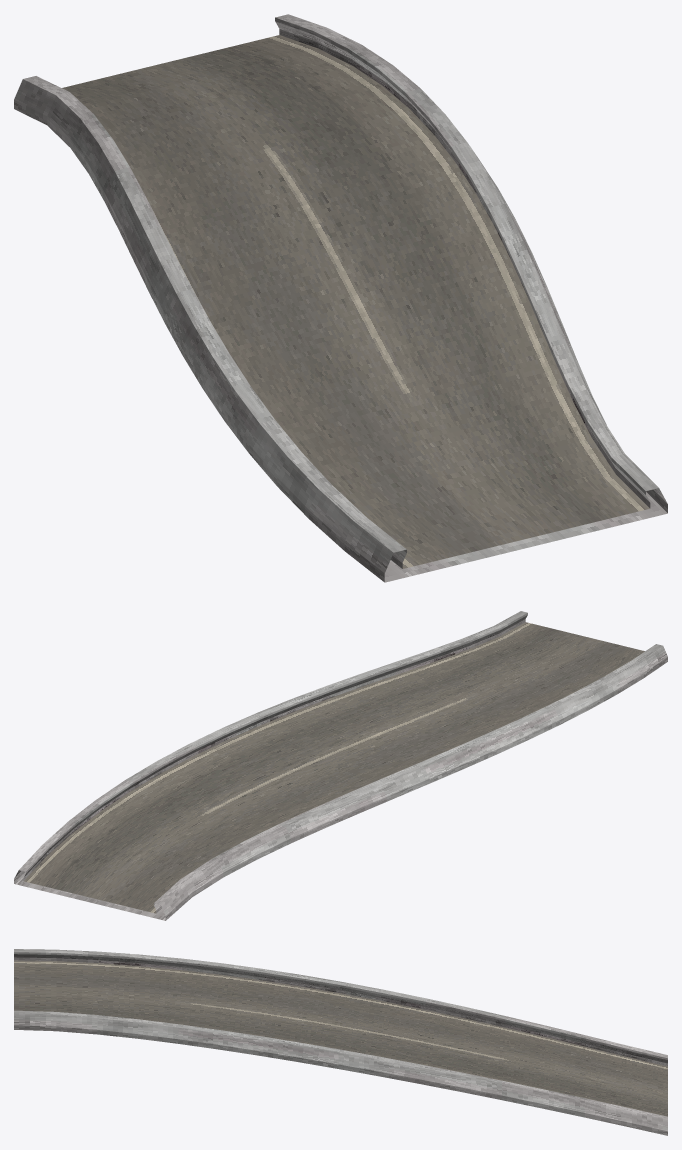
The model's file is road-Chicane-Flat-BiSlopeDown-Down1-Right1-Size4.glb.
The picture shows the model from 3 angles, top to bottom: view 1: azimuth 30°, elevation 25°; view 2: azimuth 150°, elevation 25°; view 3: azimuth 270°, elevation 25°; orthographic projection. The views are drawn at different scales.
Visible parts, largest first — view 1: road-Chicane-Flat-BiSlopeDown-Down1-Right1-Size4; view 2: road-Chicane-Flat-BiSlopeDown-Down1-Right1-Size4; view 3: road-Chicane-Flat-BiSlopeDown-Down1-Right1-Size4.
Part boxes in pixels (box(x1,y1,x2,y2)): road-Chicane-Flat-BiSlopeDown-Down1-Right1-Size4: box(14, 14, 667, 582); road-Chicane-Flat-BiSlopeDown-Down1-Right1-Size4: box(14, 611, 667, 920); road-Chicane-Flat-BiSlopeDown-Down1-Right1-Size4: box(14, 949, 667, 1135).
Bounding box in the file's own units: 2 × 0.3715 × 4.
Materials: 2 (2 with a texture image).
